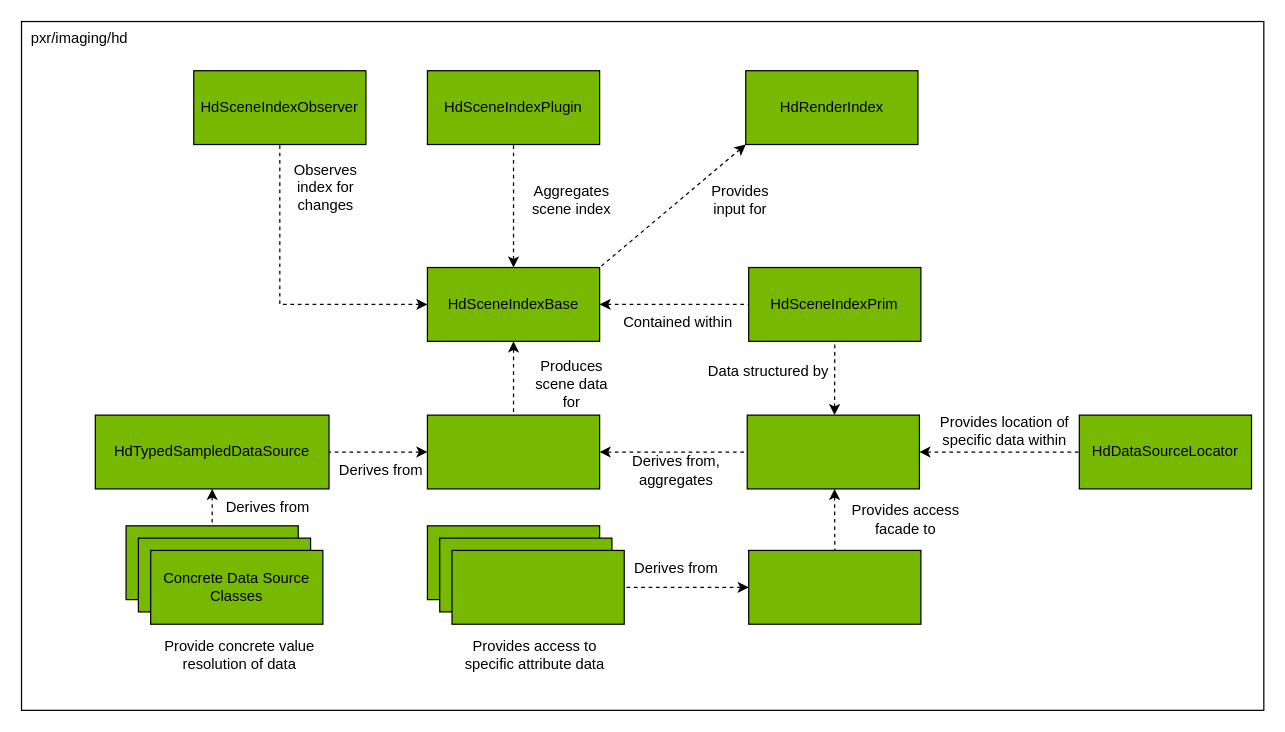
Some shapes in this 1285 by 732 pixel diagram are drawn without their labels. Here are the shapes that lost their labels. From the top down, the centre of each, then its label:
point 513,451: HdDataSourceBase
point 832,451: HdContainerDataSource
point 537,586: Schema Classes
point 834,586: HdSchema
